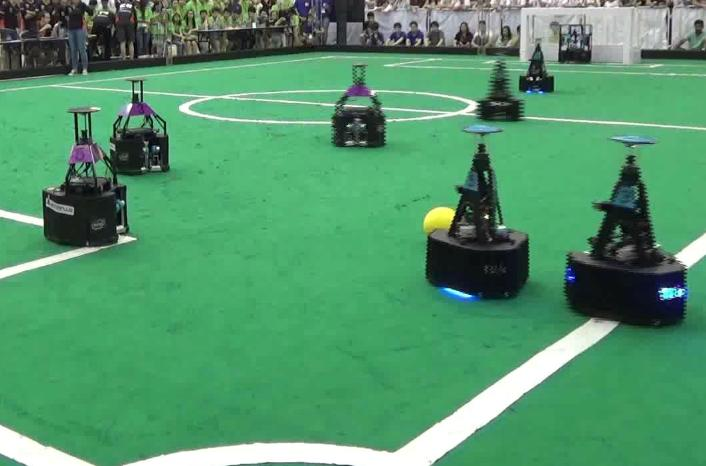robot: (562, 130, 689, 330), (423, 119, 534, 302), (40, 106, 132, 249), (106, 75, 174, 179), (325, 64, 396, 149), (469, 52, 526, 122), (520, 36, 559, 95)
